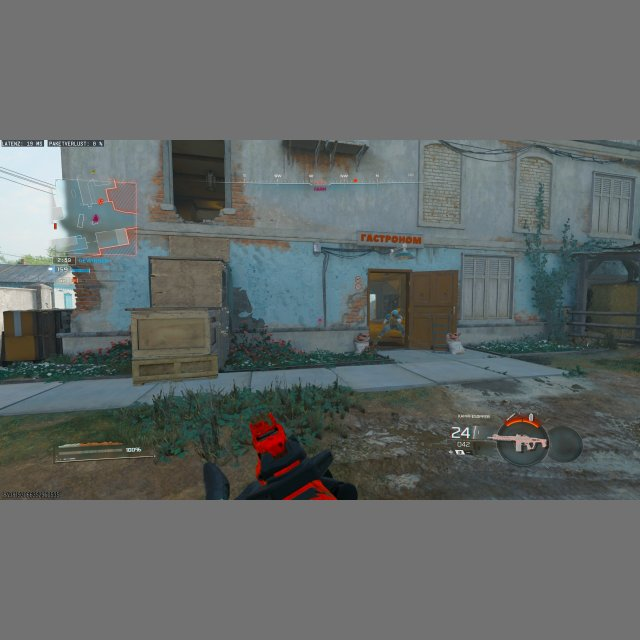player: (385, 309, 404, 335)
